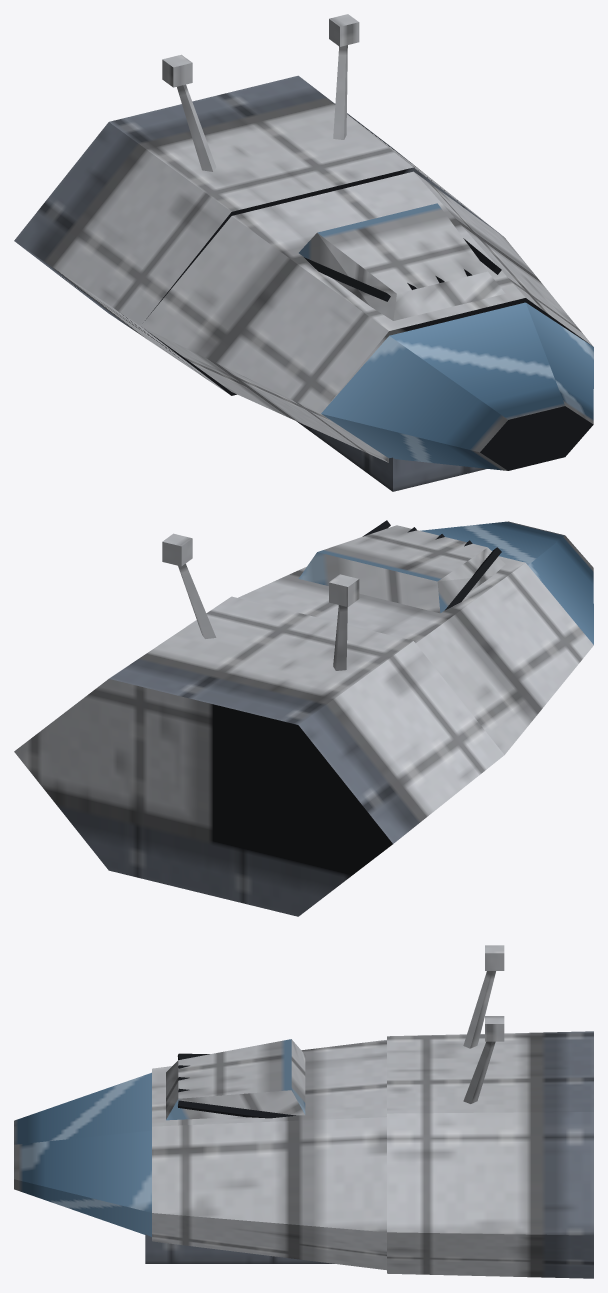
Rendered from ship_bridge.obj.
3 views of the same model, one above another, from view 1: azimuth 30°, elevation 25°; view 2: azimuth 150°, elevation 25°; view 3: azimuth 270°, elevation 25° (orthographic). The views are drawn at different scales.
Visible parts, largest first — view 1: hull, viewband, deck, masts, beacons, mullions; view 2: hull, viewband, beacons, masts, mullions; view 3: hull, viewband, deck, masts, mullions, beacons.
Part boxes in pixels (x1,y1,x2,y2): hull: (14,75,593,470); viewband: (299,203,505,320); deck: (296,421,486,491); masts: (177,45,347,171); beacons: (162,14,359,87); mullions: (304,238,501,301); hull: (14,521,593,916); viewband: (298,525,505,613); beacons: (162,533,359,606); masts: (178,563,347,670); mullions: (362,520,501,610); hull: (14,1031,593,1278); viewband: (166,1039,305,1120); deck: (145,1234,334,1263); masts: (463,971,495,1103); mullions: (177,1053,295,1118); beacons: (485,945,504,1041).
Bounding box in the file's own units: 2.76 × 2.03 × 4.2.
6 materials, 6 textured.
